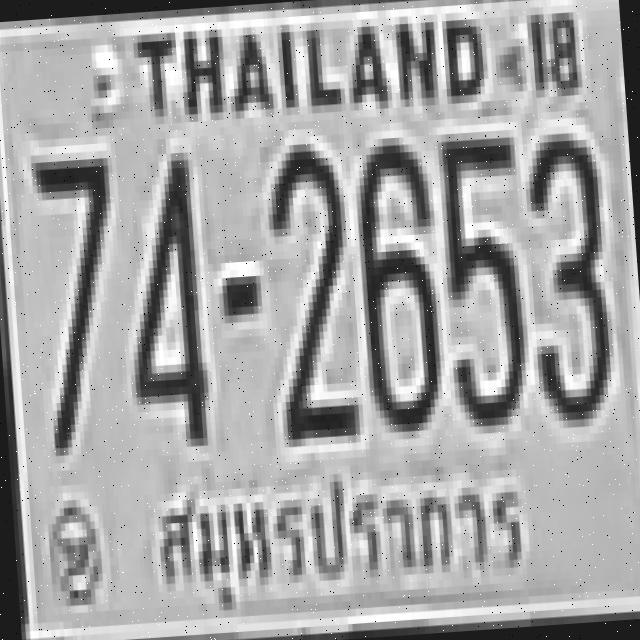2: (263, 137, 355, 436)
3: (517, 124, 614, 422)
4: (115, 144, 207, 442)
5: (432, 125, 528, 424)
6: (348, 128, 440, 426)
7: (31, 150, 122, 448)
SamutPrakan: (141, 451, 541, 627)
